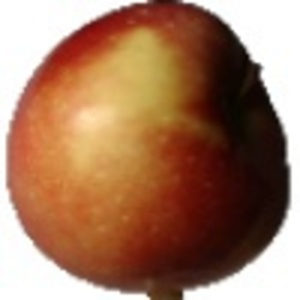maçã braeburn: (5, 2, 294, 295)
